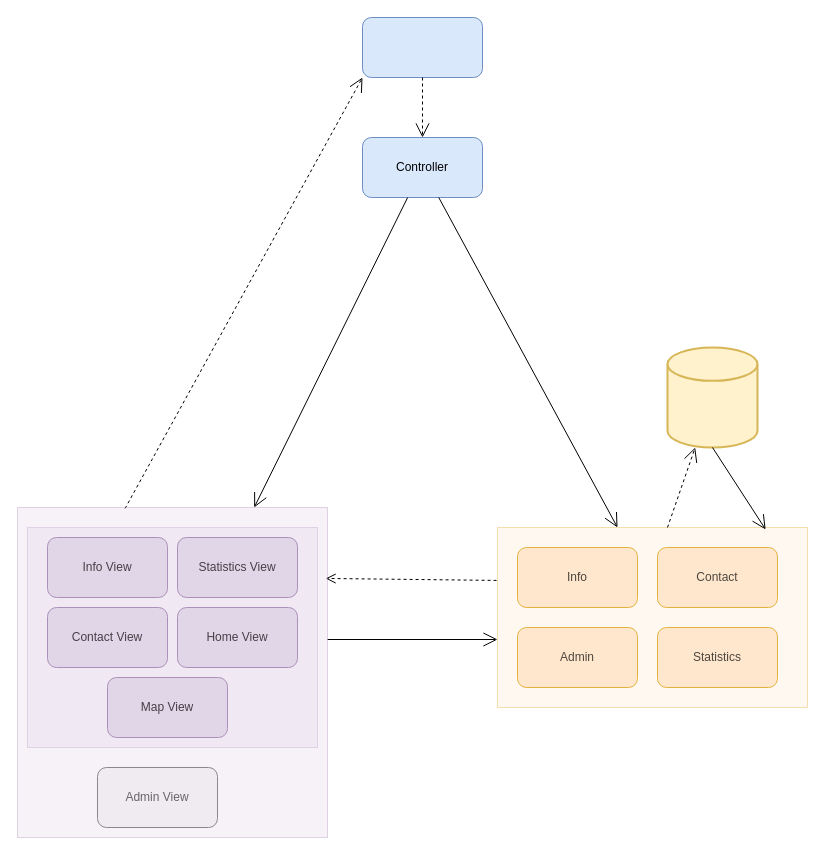
This 825x855 diagram has some shape labels left out. The centre of each missing label's shape, as x and y in pixels:
"MongoDB" belongs at point (712, 397).
"Server" belongs at point (422, 47).
